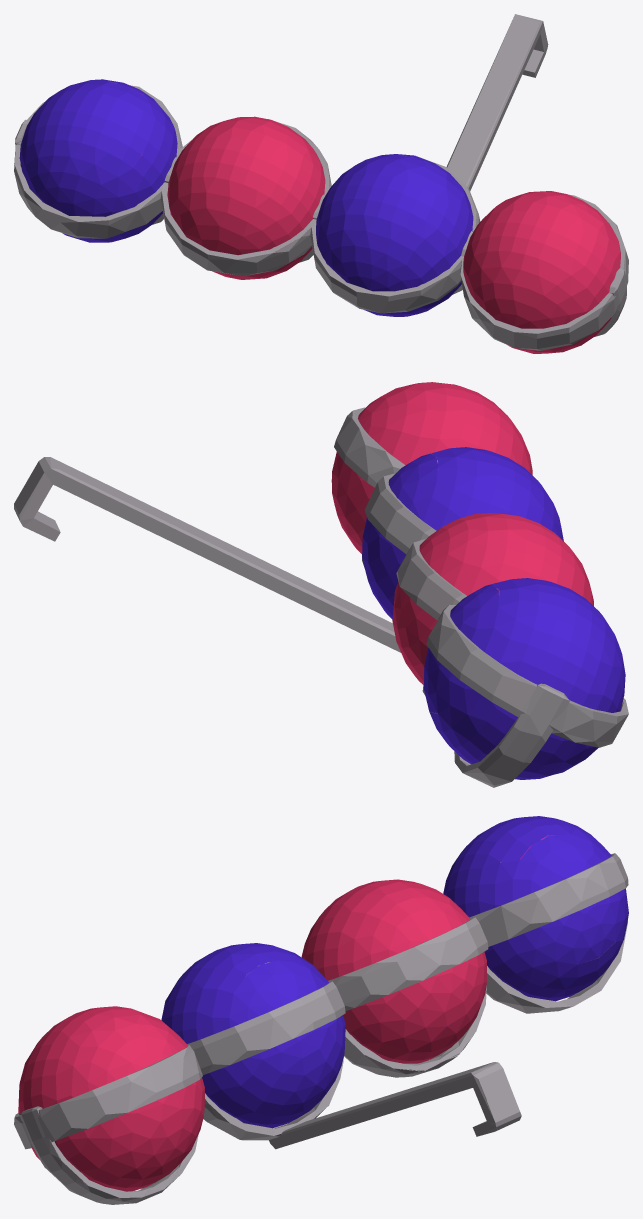
The model's file is kulki.fbx.
3 views of the same model, one above another, from view 1: azimuth 30°, elevation 25°; view 2: azimuth 150°, elevation 25°; view 3: azimuth 270°, elevation 25° (orthographic). The views are drawn at different scales.
Visible parts, largest first — view 1: kulki; view 2: kulki; view 3: kulki.
Part boxes in pixels (x1,y1,x2,y2): kulki: (14, 14, 628, 353); kulki: (14, 382, 628, 787); kulki: (14, 816, 628, 1204).
Size of the model in its own units: 1.31 by 0.4705 by 1.2.
